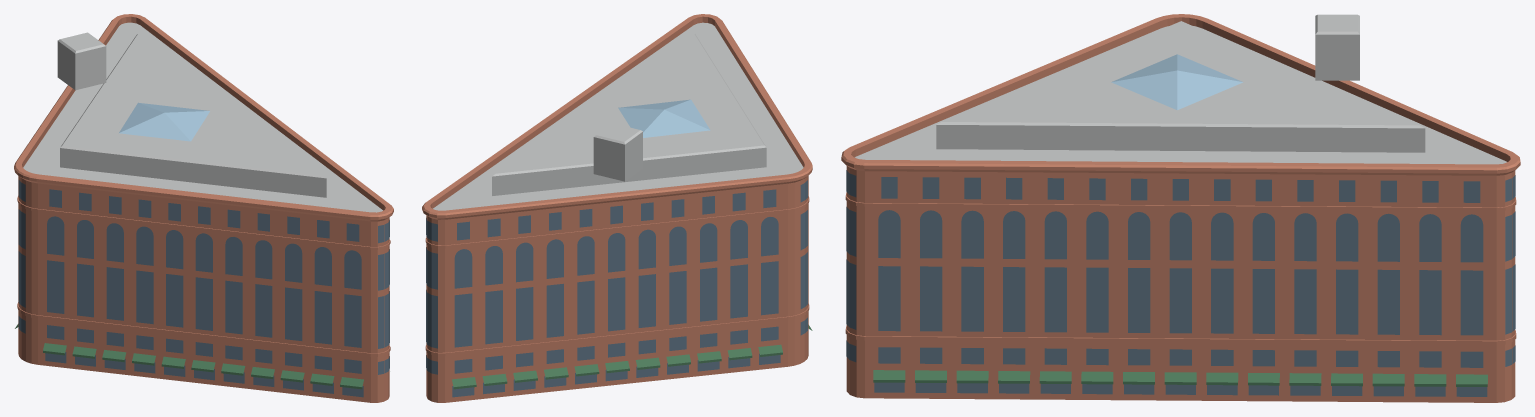
File: den-brown-palace-hotel.glb
The picture shows the model from 3 angles, left to right: view 1: azimuth 30°, elevation 25°; view 2: azimuth 150°, elevation 25°; view 3: azimuth 270°, elevation 25°; orthographic projection. The views are drawn at different scales.
Visible parts, largest first — view 1: Brown Palace Hotel; view 2: Brown Palace Hotel; view 3: Brown Palace Hotel.
Boxes of the visible parts, x1,y1,x2,y2 form: Brown Palace Hotel: (14, 14, 393, 402); Brown Palace Hotel: (422, 14, 812, 402); Brown Palace Hotel: (841, 14, 1520, 402).
Bounding box in the file's own units: 49.76 × 44.9 × 91.03.
